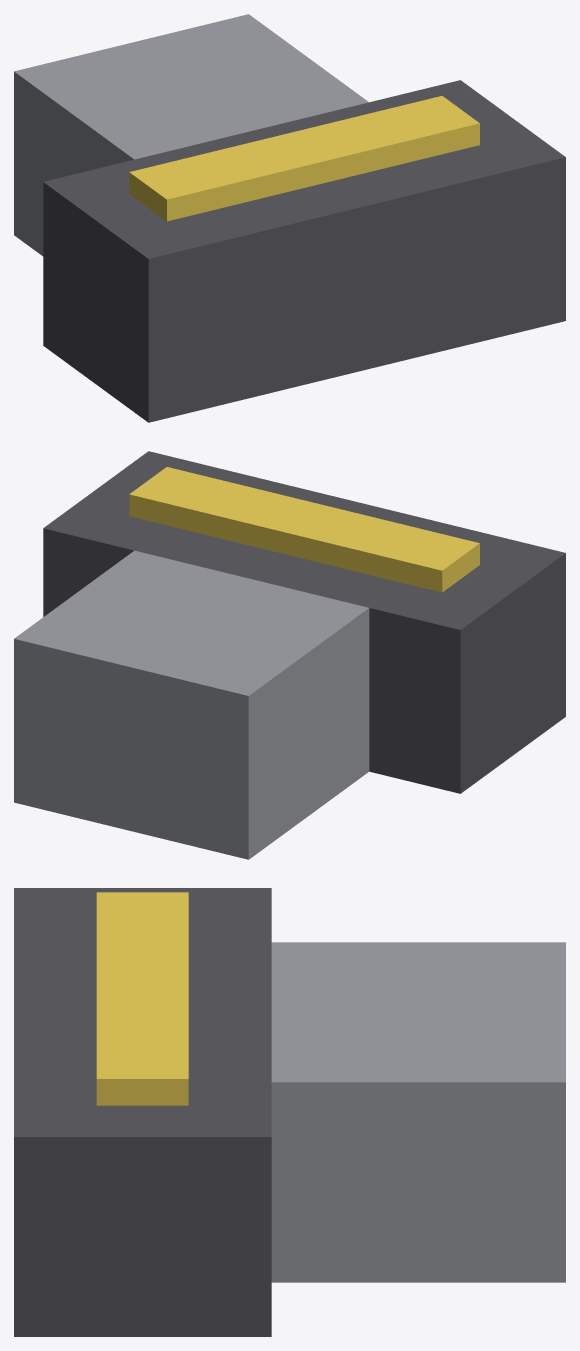
The model's file is hdmi-plug.glb.
The picture shows the model from 3 angles, top to bottom: view 1: azimuth 30°, elevation 25°; view 2: azimuth 150°, elevation 25°; view 3: azimuth 270°, elevation 25°; orthographic projection. The views are drawn at different scales.
Visible parts, largest first — view 1: c1a1a1d, c55585f, cd4a017; view 2: c55585f, c1a1a1d, cd4a017; view 3: c55585f, c1a1a1d, cd4a017.
Part boxes in pixels (left/top/right/bottom): c1a1a1d: left=43, top=80, right=565, bottom=422; c55585f: left=14, top=14, right=368, bottom=256; cd4a017: left=129, top=96, right=479, bottom=221; c55585f: left=14, top=550, right=369, bottom=859; c1a1a1d: left=43, top=451, right=565, bottom=793; cd4a017: left=129, top=467, right=479, bottom=592; c55585f: left=271, top=942, right=565, bottom=1282; c1a1a1d: left=14, top=888, right=271, bottom=1336; cd4a017: left=96, top=892, right=188, bottom=1105.
Bounding box in the file's own units: 16 × 6.8 × 15.
